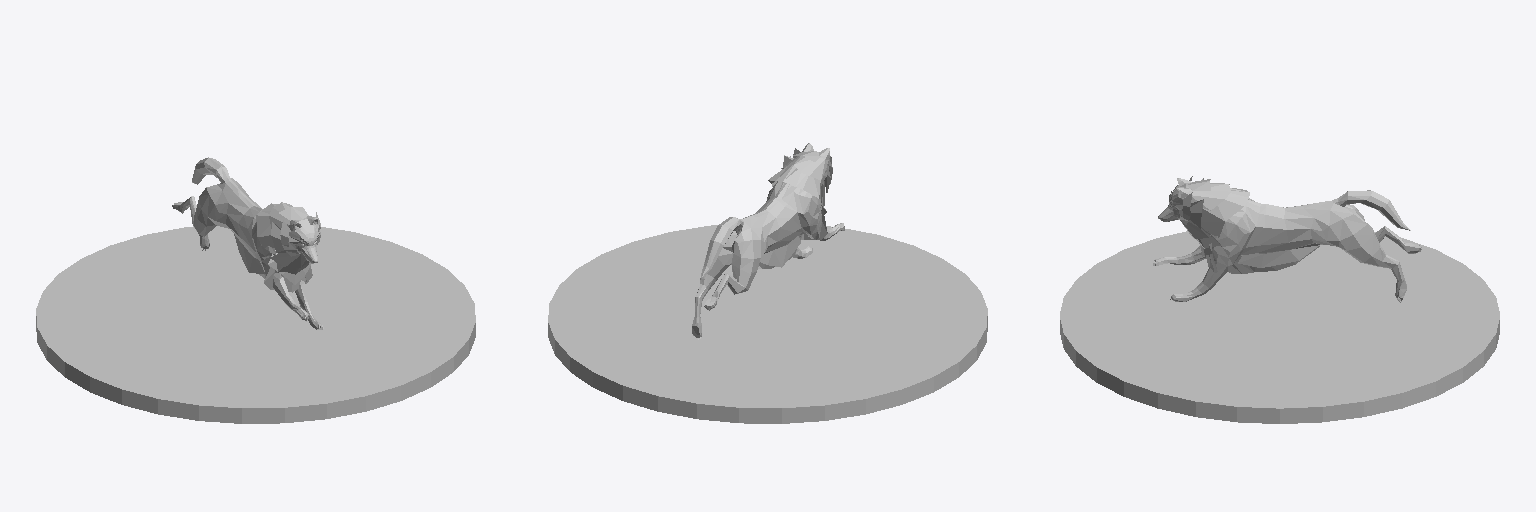
File: Wolf_0015.obj
3 views of the same model, side by side, from view 1: azimuth 30°, elevation 25°; view 2: azimuth 150°, elevation 25°; view 3: azimuth 270°, elevation 25° (orthographic).
Visible parts, largest first — view 1: Circle, Wolf1_Material__wolf_col_tga_0, Wolf2_fur__fella3_jpg_001_0; view 2: Circle, Wolf1_Material__wolf_col_tga_0, Wolf2_fur__fella3_jpg_001_0; view 3: Circle, Wolf1_Material__wolf_col_tga_0, Wolf2_fur__fella3_jpg_001_0.
Part boxes in pixels (x1,y1,x2,y2): Circle: (36,226,475,423); Wolf1_Material__wolf_col_tga_0: (174,157,322,329); Wolf2_fur__fella3_jpg_001_0: (234,202,320,292); Circle: (548,225,987,423); Wolf1_Material__wolf_col_tga_0: (692,143,844,337); Wolf2_fur__fella3_jpg_001_0: (758,148,832,268); Circle: (1060,231,1499,423); Wolf1_Material__wolf_col_tga_0: (1154,178,1420,301); Wolf2_fur__fella3_jpg_001_0: (1169,176,1319,273).
Bounding box in the file's own units: 1.69 × 0.6342 × 1.69.